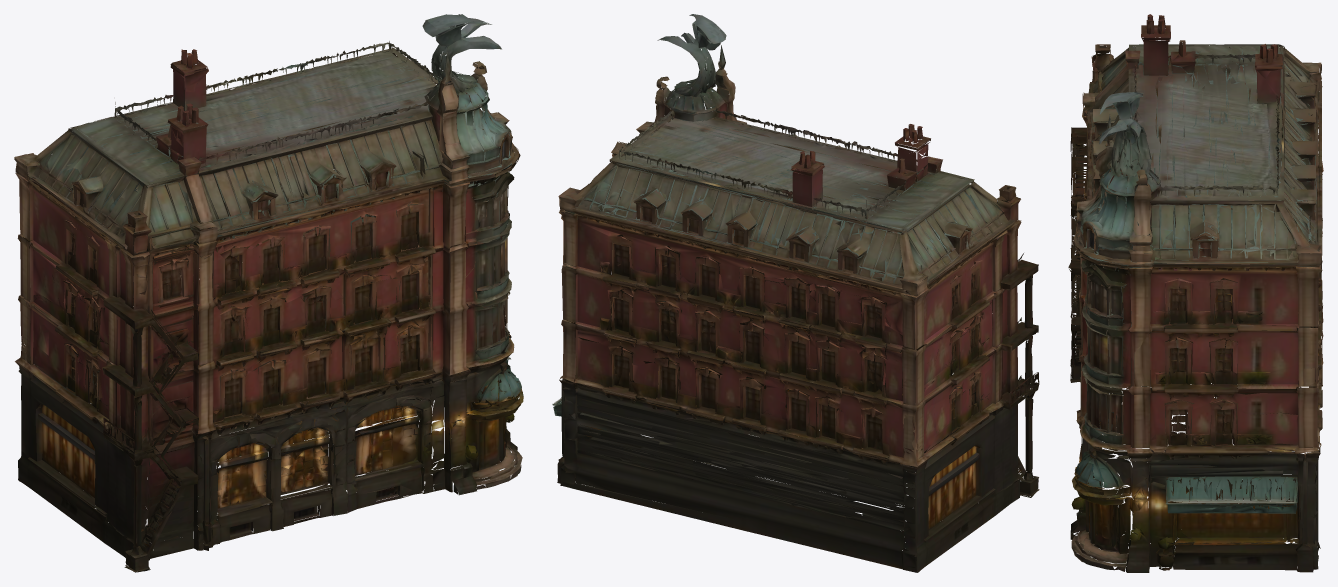
Rendered from ch03_landmark_copper_heron_hotel.glb.
3 renders of one model, left to right at view 1: azimuth 30°, elevation 25°; view 2: azimuth 150°, elevation 25°; view 3: azimuth 270°, elevation 25°, orthographic. The views are drawn at different scales.
Visible parts, largest first — view 1: material; view 2: material; view 3: material.
Boxes of the visible parts, bbox=[...] form: material: bbox=[14, 14, 523, 572]; material: bbox=[552, 14, 1039, 572]; material: bbox=[1068, 14, 1323, 572].
Bounding box in the file's own units: 0.7957 × 0.8083 × 0.4189.
1 material, 1 textured.
